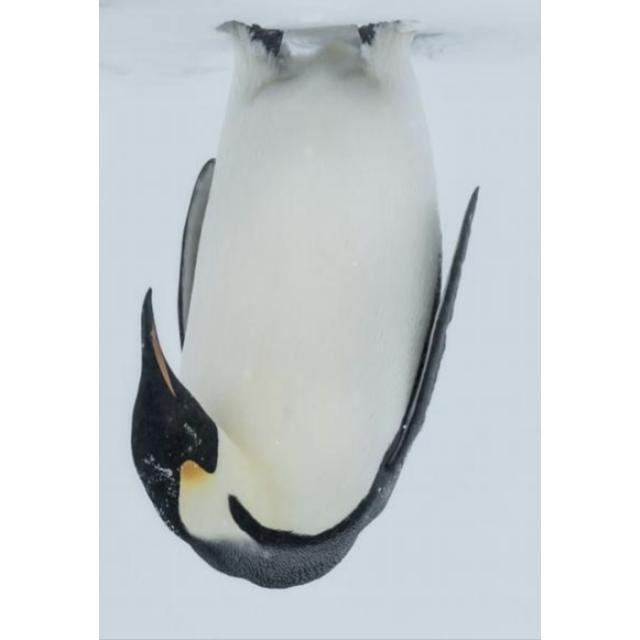penguin: (131, 17, 482, 593)
